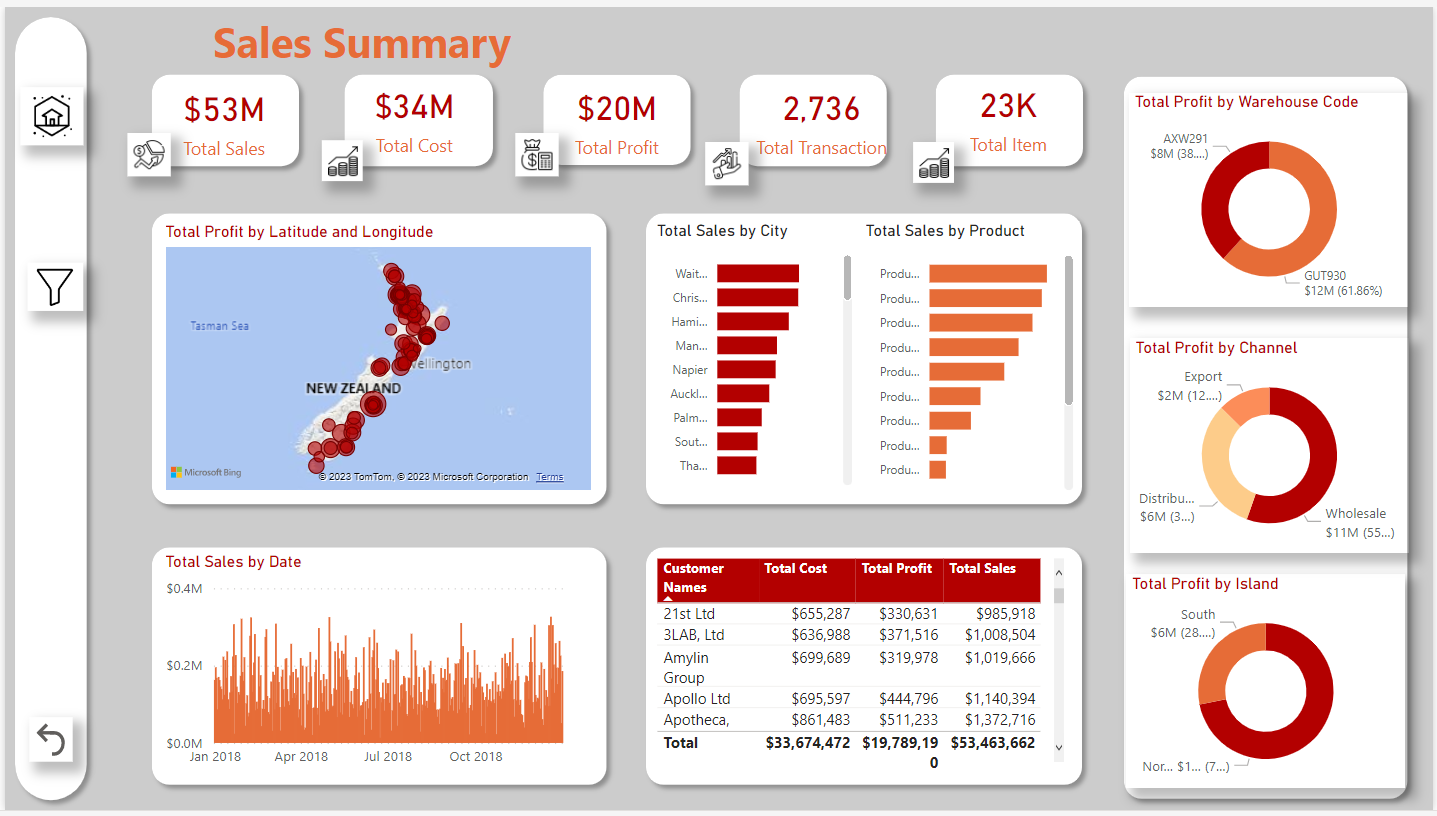

This screenshot's page, from the dashboard's own definition file:
{"tool":"powerbi","page":{"name":"Page 1","canvas":[1280,720],"ordinal":0},"visuals":[{"type":"columnChart","fields":{"Y":["Key Measures.Total Sales"],"Category":["Dates.Date"]},"box":[140.1,578.2,532.9,141.5],"z":0},{"type":"slicer","fields":{"Values":["Dates.Year"]},"box":[78.3,184,347.5,60.4],"z":1000},{"type":"slicer","fields":{"Values":["Dates.Quarter"]},"box":[68.7,284.3,366.7,60.4],"z":2000},{"type":"donutChart","fields":{"Category":["Regions.Island"],"Y":["Key Measures.Total Profit"]},"box":[1015.2,526.8,250,192.3],"z":3000},{"type":"donutChart","fields":{"Category":["Sales.Channel"],"Y":["Key Measures.Total Profit"]},"box":[1015.2,309.8,250,192.3],"z":4000},{"type":"donutChart","fields":{"Y":["Key Measures.Total Profit"],"Category":["Sales.Warehouse Code"]},"box":[1015.2,88.7,250,192],"z":5000},{"type":"map","fields":{"Y":["Regions.Latitude"],"X":["Regions.Longitude"],"Size":["Key Measures.Total Profit"]},"box":[156.6,284.3,495.8,262.3],"z":6000},{"type":"card","fields":{"Values":["Key Measures.Total Profit"]},"box":[252.7,59.1,189.5,78.3],"z":7000},{"type":"card","fields":{"Values":["Key Measures.Total Cost"]},"box":[68.7,37.1,142.8,108.5],"z":8000},{"type":"card","title":"Samuel","fields":{"Values":["Key Measures.Total Sales"]},"box":[442.2,54.9,175.8,87.9],"z":9000},{"type":"card","fields":{"Values":["Key Measures.Total Transaction"]},"box":[640,59.1,166.2,78.3],"z":10000},{"type":"card","fields":{"Values":["Key Measures.Total Item"]},"box":[830.9,54.9,167.6,108.5],"z":11000}]}

Visuals, with their boxes in screenshot pixels (x1, y1, x2, y2), scaled from the page's 1280x720 canvas onto the 1437x816 screenshot:
columnChart - Key Measures.Total Sales x Dates.Date: bbox=[157, 655, 756, 815]
slicer - Dates.Year: bbox=[88, 209, 478, 277]
slicer - Dates.Quarter: bbox=[77, 322, 489, 391]
donutChart - Regions.Island x Key Measures.Total Profit: bbox=[1140, 597, 1420, 815]
donutChart - Sales.Channel x Key Measures.Total Profit: bbox=[1140, 351, 1420, 569]
donutChart - Key Measures.Total Profit x Sales.Warehouse Code: bbox=[1140, 101, 1420, 318]
map - Regions.Latitude x Regions.Longitude: bbox=[176, 322, 732, 619]
card - Key Measures.Total Profit: bbox=[284, 67, 496, 156]
card - Key Measures.Total Cost: bbox=[77, 42, 237, 165]
"Samuel" card: bbox=[496, 62, 694, 162]
card - Key Measures.Total Transaction: bbox=[718, 67, 905, 156]
card - Key Measures.Total Item: bbox=[933, 62, 1121, 185]
